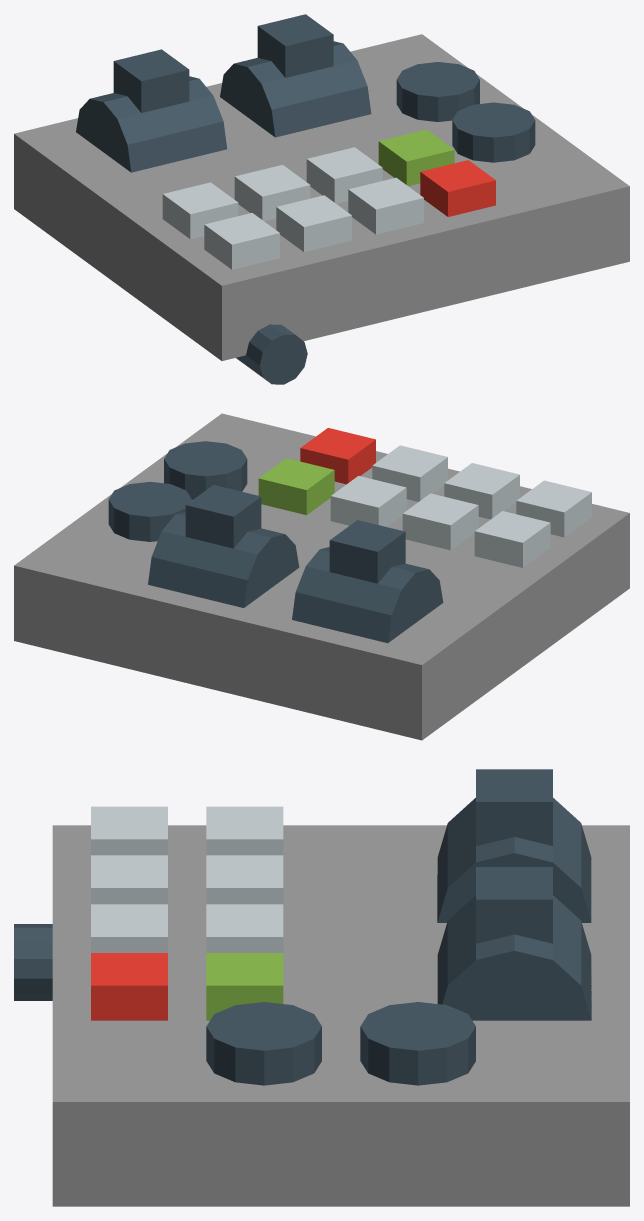
File: SimpleButton.glb
3 views of the same model, one above another, from view 1: azimuth 30°, elevation 25°; view 2: azimuth 150°, elevation 25°; view 3: azimuth 270°, elevation 25° (orthographic). The views are drawn at different scales.
Parts seen in each view (by area): view 1: group1405848941, group128226319, group1445632883, group1780573564, group480546860, group1011640019; view 2: group1405848941, group1445632883, group128226319, group1780573564, group480546860; view 3: group1405848941, group128226319, group1445632883, group480546860, group1780573564, group1011640019.
Part boxes in pixels (left/top/right/bottom): group1405848941: left=14, top=34, right=629, bottom=360; group128226319: left=220, top=14, right=371, bottom=137; group1445632883: left=76, top=49, right=227, bottom=172; group1780573564: left=452, top=102, right=535, bottom=162; group480546860: left=396, top=62, right=479, bottom=121; group1011640019: left=236, top=324, right=307, bottom=384; group1405848941: left=14, top=413, right=629, bottom=740; group1445632883: left=292, top=520, right=443, bottom=643; group128226319: left=148, top=485, right=299, bottom=607; group1780573564: left=164, top=441, right=247, bottom=499; group480546860: left=108, top=481, right=191, bottom=541; group1405848941: left=52, top=806, right=629, bottom=1206; group128226319: left=437, top=867, right=591, bottom=1020; group1445632883: left=437, top=769, right=591, bottom=922; group480546860: left=360, top=1002, right=475, bottom=1085; group1780573564: left=206, top=1002, right=321, bottom=1085; group1011640019: left=14, top=924, right=52, bottom=1000.
Size of the model in its own units: 0.17 by 0.07 by 0.16.
